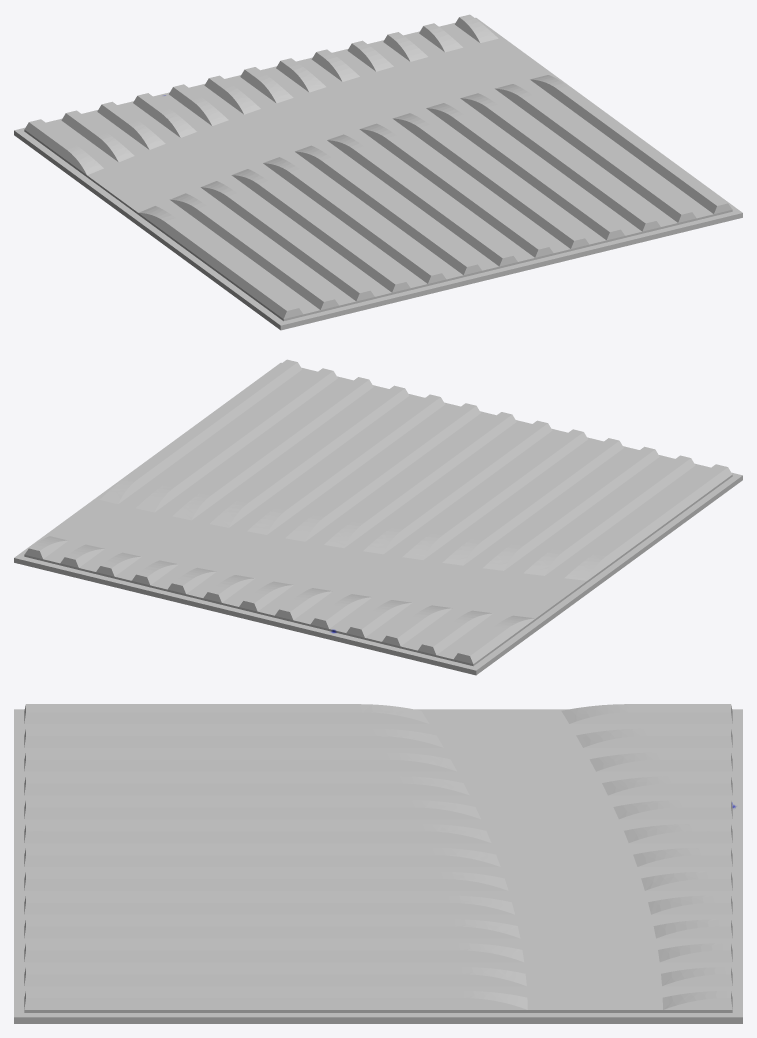
The picture shows the model from 3 angles, top to bottom: view 1: azimuth 30°, elevation 25°; view 2: azimuth 150°, elevation 25°; view 3: azimuth 270°, elevation 25°; orthographic projection. The views are drawn at different scales.
Parts seen in each view (by area): view 1: node_id4; view 2: node_id4; view 3: node_id4.
Part boxes in pixels (left/top/right/bottom): node_id4: left=14, top=14, right=742, bottom=330; node_id4: left=14, top=359, right=742, bottom=675; node_id4: left=14, top=704, right=742, bottom=1023.
Size of the model in its own units: 0.512 by 0.0145 by 0.512.
Materials: 1 (1 with a texture image).
